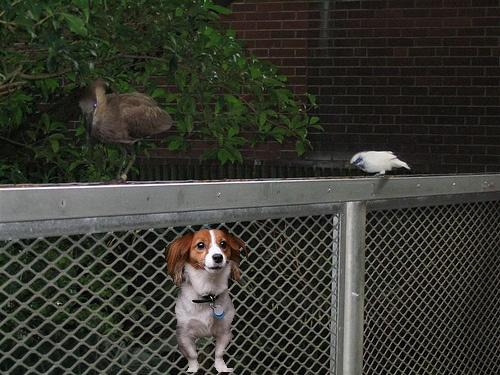tampered: (166, 230, 248, 372)
